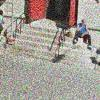stairs: (10, 22, 59, 63)
